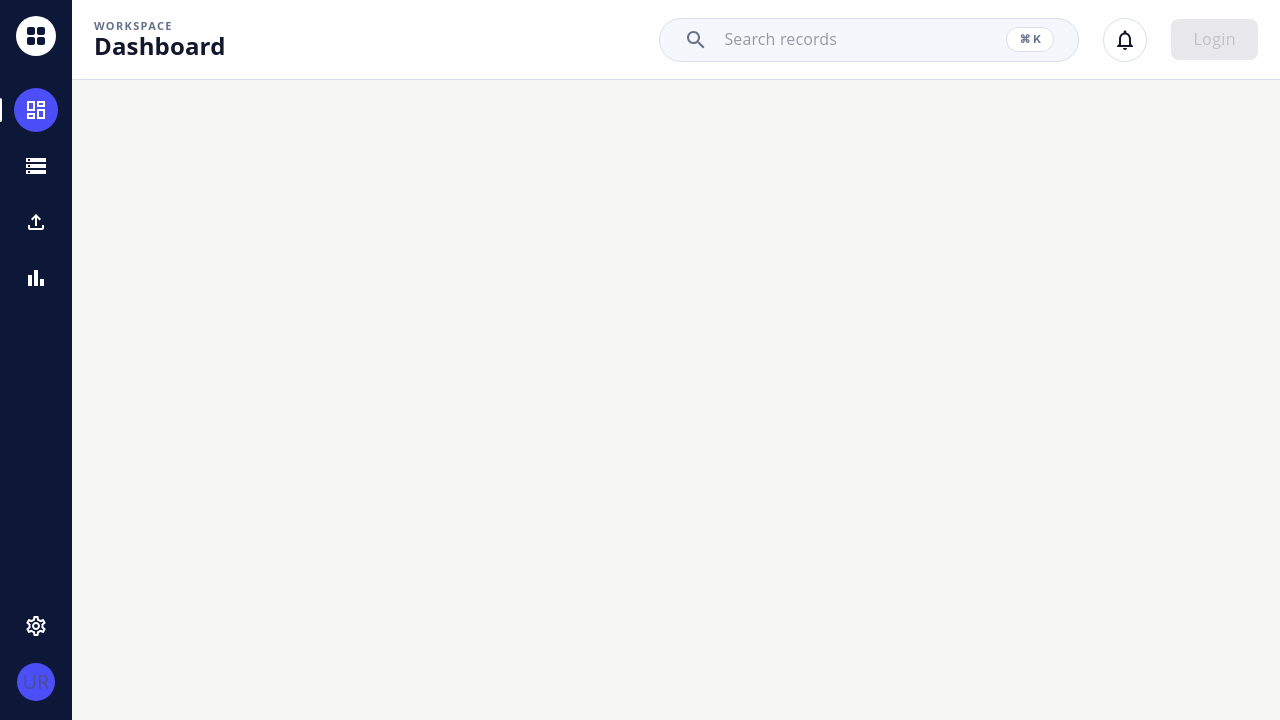
Scenario: shows feedback for unavailable shell actions
Click the button named "Notifications" at (1125, 40), box [1103, 18, 1147, 62]
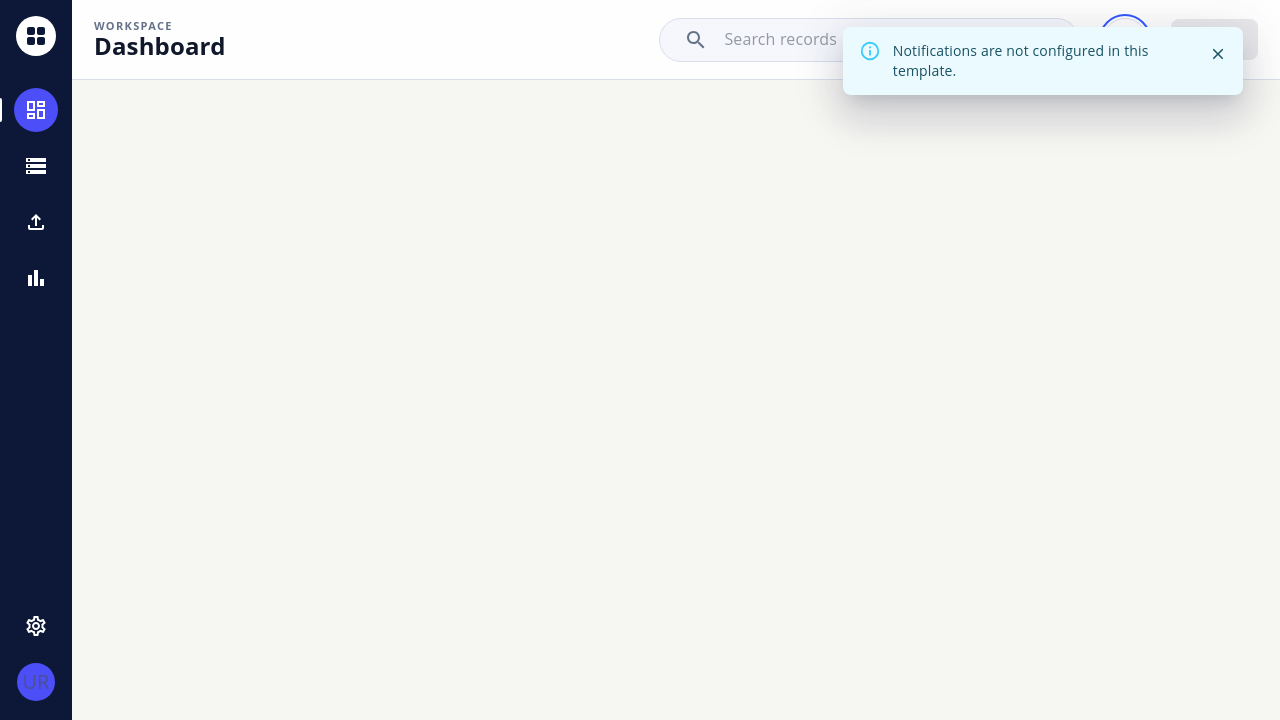
Expected: the message reads "Notifications are not configured in this template.", [893, 41, 1148, 80]
